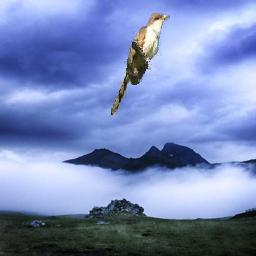Cuckoo: (112, 13, 171, 115)
